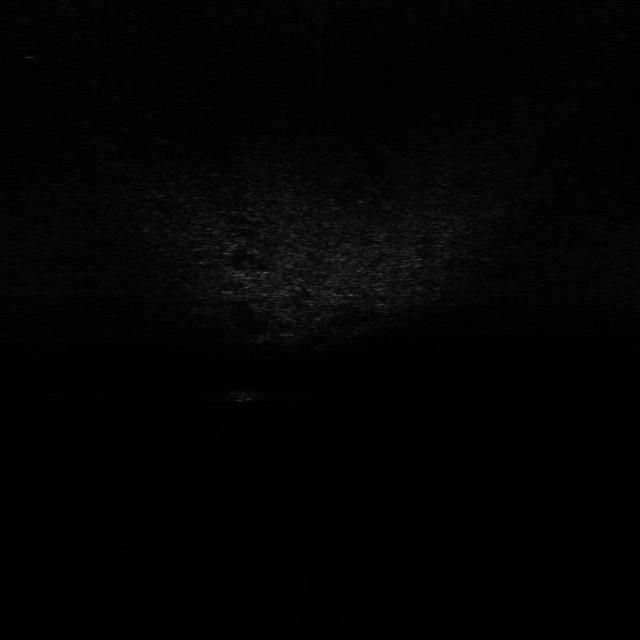cube: (228, 381, 260, 406)
